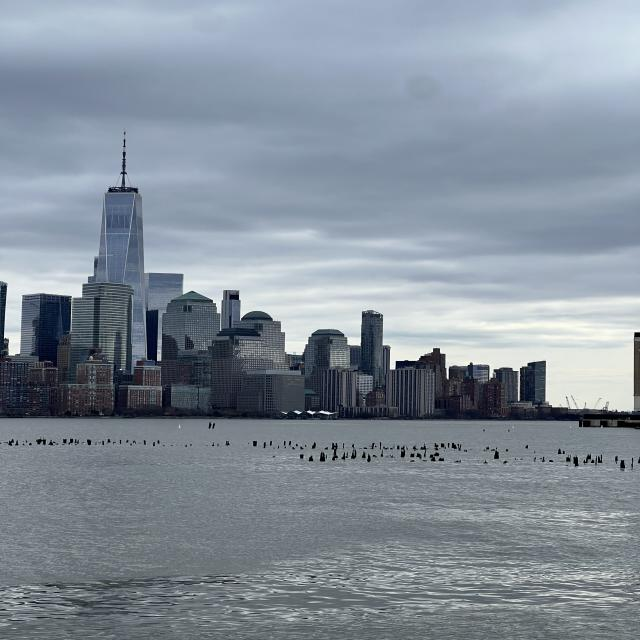WTC: (97, 128, 145, 282)
